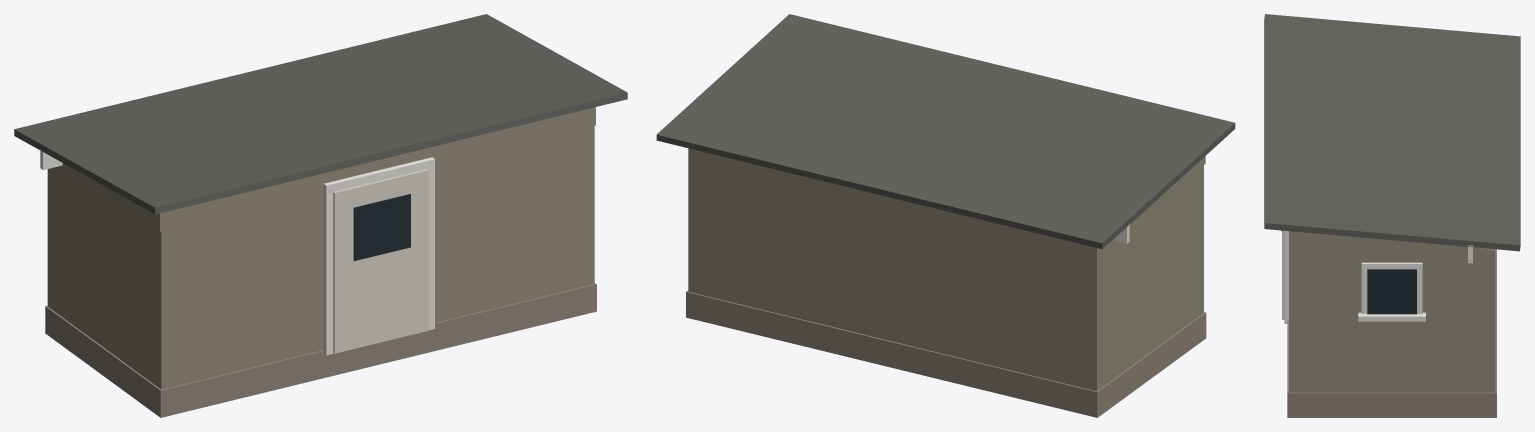
Rendered from shed-0002.glb.
3 renders of one model, left to right at view 1: azimuth 30°, elevation 25°; view 2: azimuth 150°, elevation 25°; view 3: azimuth 270°, elevation 25°, orthographic. The views are drawn at different scales.
Parts seen in each view (by area): view 1: kit-shed-0002; view 2: kit-shed-0002; view 3: kit-shed-0002.
Part boxes in pixels (left/top/right/bottom): kit-shed-0002: left=14, top=14, right=627, bottom=417; kit-shed-0002: left=656, top=14, right=1235, bottom=417; kit-shed-0002: left=1264, top=14, right=1520, bottom=417.
Bounding box in the file's own units: 6 × 2.72 × 3.11.
